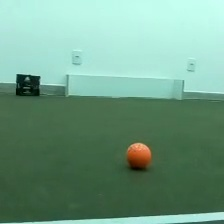ball: (124, 139, 154, 171)
goal: (63, 71, 186, 101)
robot: (14, 71, 41, 97)
